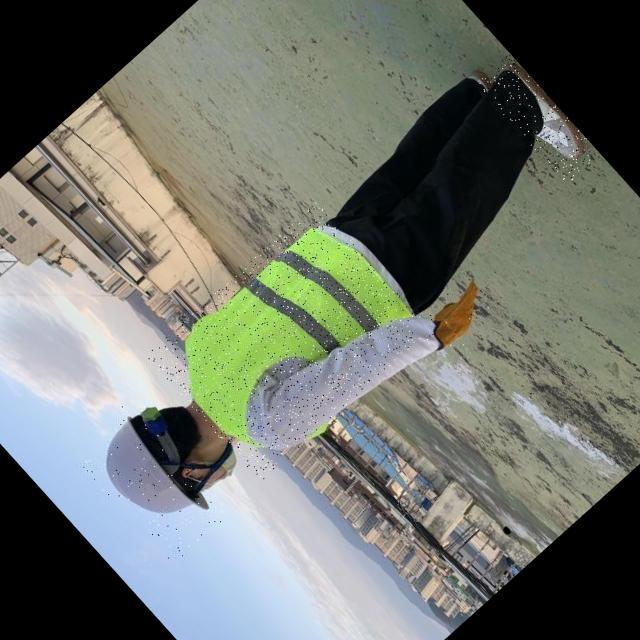hard_hat: (70, 398, 235, 568)
safety_vest: (146, 201, 430, 482)
work_boots: (476, 52, 602, 185)
